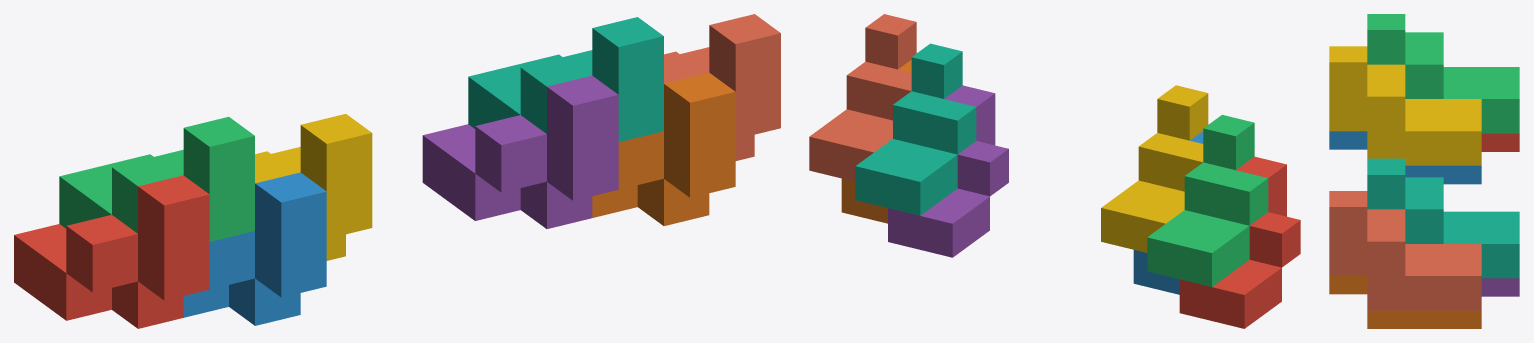
The model's file is tiling.obj.
3 renders of one model, left to right at view 1: azimuth 30°, elevation 25°; view 2: azimuth 150°, elevation 25°; view 3: azimuth 270°, elevation 25°, orthographic. The views are drawn at different scales.
Visible parts, largest first — view 1: copy_1_domain_5, copy_1_domain_1, copy_1_domain_6, copy_1_domain_2, copy_1_domain_7, copy_1_domain_3, copy_1_domain_4, copy_1_domain_8; view 2: copy_1_domain_3, copy_1_domain_7, copy_1_domain_8, copy_1_domain_4, copy_1_domain_5, copy_1_domain_1, copy_1_domain_2, copy_1_domain_6; view 3: copy_1_domain_8, copy_1_domain_4, copy_1_domain_7, copy_1_domain_3, copy_1_domain_6, copy_1_domain_2, copy_1_domain_5, copy_1_domain_1.
Boxes of the visible parts, bbox=[...] form: copy_1_domain_5: bbox=[422, 75, 618, 228]; copy_1_domain_1: bbox=[14, 175, 209, 328]; copy_1_domain_6: bbox=[592, 72, 735, 225]; copy_1_domain_2: bbox=[183, 172, 326, 325]; copy_1_domain_7: bbox=[468, 17, 663, 141]; copy_1_domain_3: bbox=[59, 116, 254, 241]; copy_1_domain_4: bbox=[255, 114, 372, 260]; copy_1_domain_8: bbox=[664, 14, 780, 160]; copy_1_domain_3: bbox=[1147, 114, 1268, 286]; copy_1_domain_7: bbox=[855, 43, 976, 215]; copy_1_domain_8: bbox=[809, 14, 916, 181]; copy_1_domain_4: bbox=[1101, 85, 1208, 252]; copy_1_domain_5: bbox=[888, 85, 1008, 257]; copy_1_domain_1: bbox=[1179, 156, 1300, 328]; copy_1_domain_2: bbox=[1133, 131, 1203, 294]; copy_1_domain_6: bbox=[841, 59, 911, 223]; copy_1_domain_8: bbox=[1329, 191, 1481, 310]; copy_1_domain_4: bbox=[1329, 46, 1481, 165]; copy_1_domain_7: bbox=[1367, 158, 1519, 278]; copy_1_domain_3: bbox=[1367, 14, 1519, 133]; copy_1_domain_6: bbox=[1329, 276, 1481, 328]; copy_1_domain_2: bbox=[1329, 131, 1481, 184]; copy_1_domain_5: bbox=[1481, 278, 1519, 296]; copy_1_domain_1: bbox=[1481, 133, 1519, 151].
Size of the model in its own units: 14 by 4 by 5.
